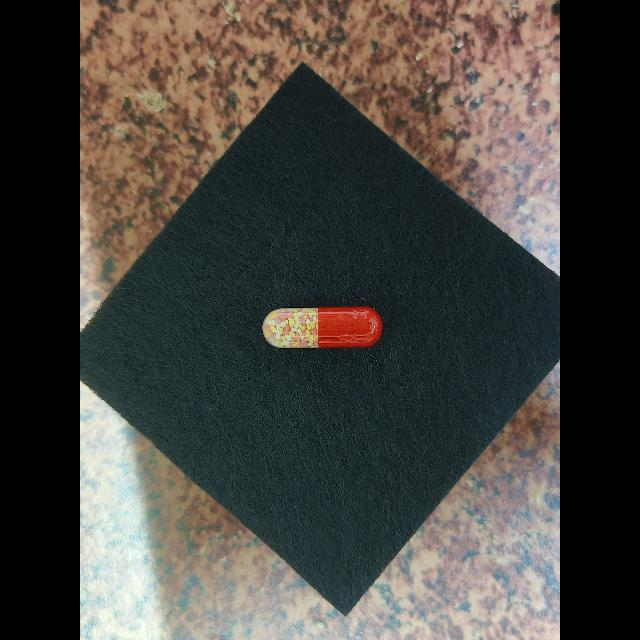Intact Capsule: (262, 306, 383, 348)
